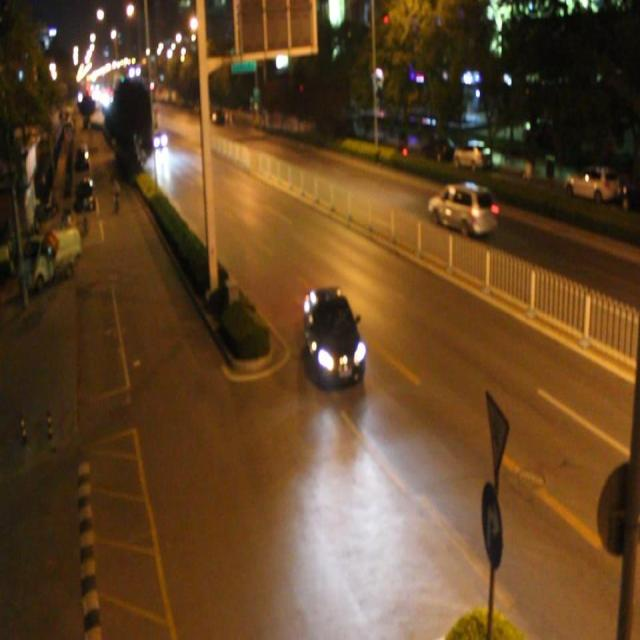car: (300, 286, 364, 384), (428, 180, 497, 237), (150, 127, 170, 149)
